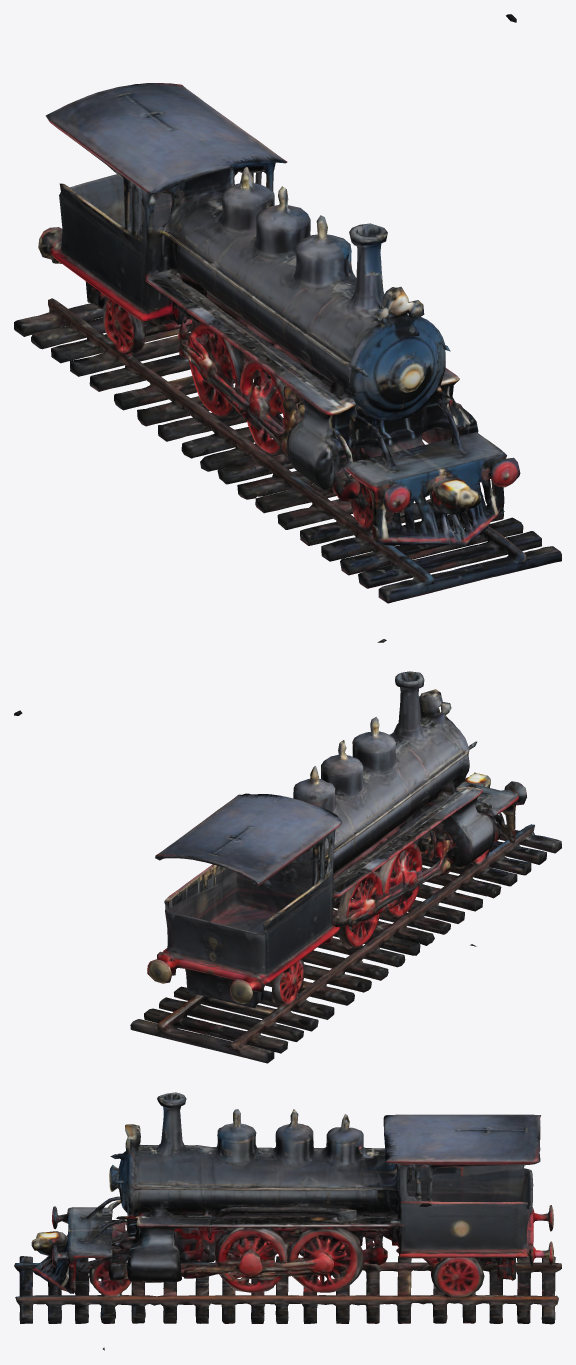
File: refined_steam engine.glb
3 views of the same model, one above another, from view 1: azimuth 30°, elevation 25°; view 2: azimuth 150°, elevation 25°; view 3: azimuth 270°, elevation 25° (orthographic). The views are drawn at different scales.
Size of the model in its own units: 1.26 by 1.1 by 2.03.
Materials: 1 (1 with a texture image).
